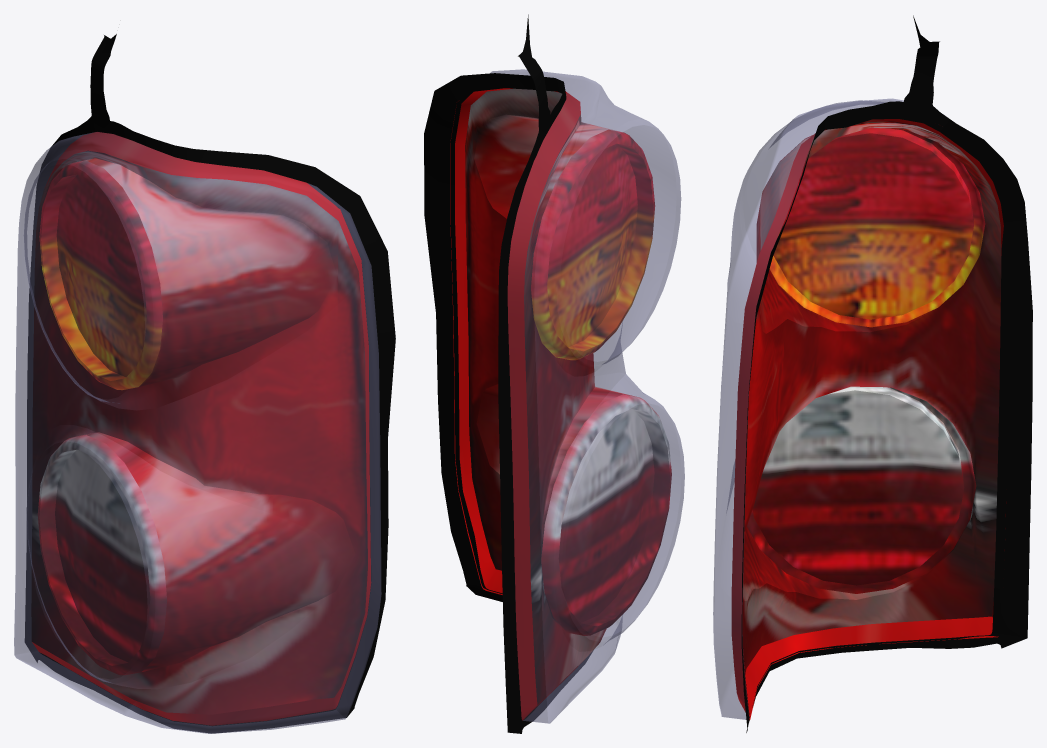
The picture shows the model from 3 angles, left to right: view 1: azimuth 30°, elevation 25°; view 2: azimuth 150°, elevation 25°; view 3: azimuth 270°, elevation 25°; orthographic projection. The views are drawn at different scales.
Parts seen in each view (by area): view 1: J725_541C_R_J725_541C_R_3_DTaSI, J725_541C_R_4_N_J725_541C_R, J725_541C_R_J725_541C_R_5_D; view 2: J725_541C_R_4_N_J725_541C_R, J725_541C_R_J725_541C_R_3_DTaSI, J725_541C_R_J725_541C_R_5_D; view 3: J725_541C_R_4_N_J725_541C_R, J725_541C_R_J725_541C_R_5_D, J725_541C_R_J725_541C_R_3_DTaSI.
Boxes of the visible parts, x1,y1,x2,y2 form: J725_541C_R_J725_541C_R_3_DTaSI: [14, 132, 381, 733]; J725_541C_R_4_N_J725_541C_R: [31, 132, 371, 725]; J725_541C_R_J725_541C_R_5_D: [25, 34, 395, 733]; J725_541C_R_4_N_J725_541C_R: [450, 88, 671, 720]; J725_541C_R_J725_541C_R_3_DTaSI: [490, 69, 684, 723]; J725_541C_R_J725_541C_R_5_D: [424, 14, 593, 733]; J725_541C_R_4_N_J725_541C_R: [731, 119, 1006, 719]; J725_541C_R_J725_541C_R_5_D: [741, 15, 1032, 732]; J725_541C_R_J725_541C_R_3_DTaSI: [713, 98, 903, 719].
Bounding box in the file's own units: 18.17 × 46.15 × 20.43.
